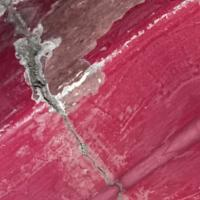crack: (0, 0, 115, 199)
